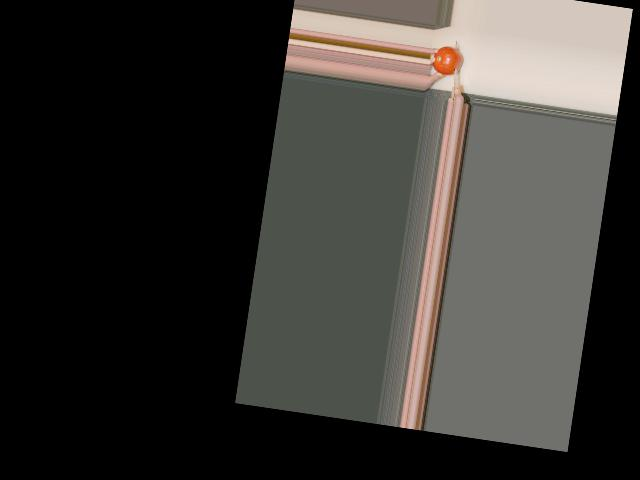tomato: (431, 44, 464, 76)
